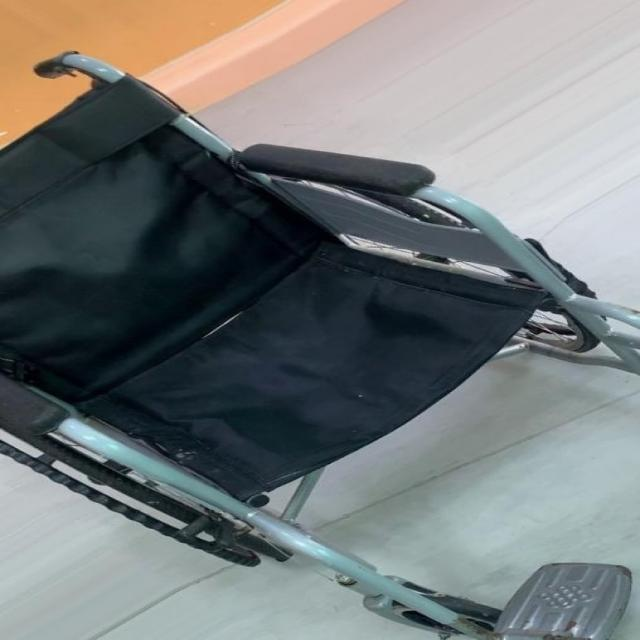wheelchair: (7, 40, 640, 640)
